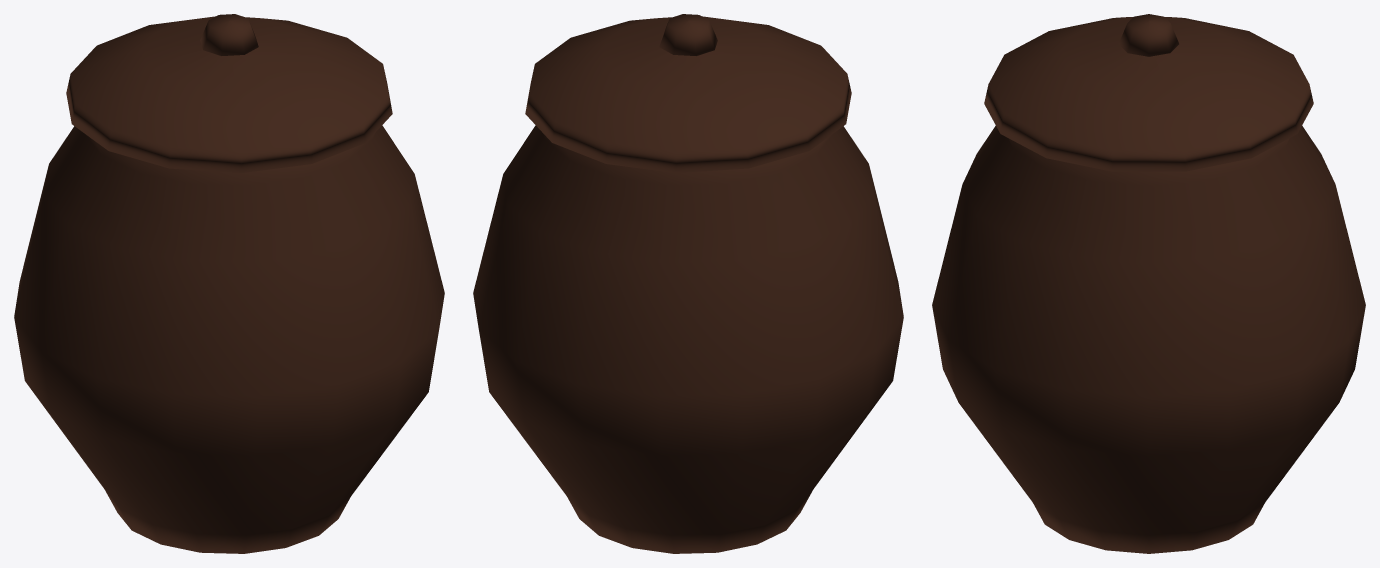
File: onggi-large.glb
3 views of the same model, side by side, from view 1: azimuth 30°, elevation 25°; view 2: azimuth 150°, elevation 25°; view 3: azimuth 270°, elevation 25° (orthographic).
Parts seen in each view (by area): view 1: onggi-jar-large_0; view 2: onggi-jar-large_0; view 3: onggi-jar-large_0.
Boxes of the visible parts, x1,y1,x2,y2 form: onggi-jar-large_0: (14,14,444,553); onggi-jar-large_0: (473,14,903,553); onggi-jar-large_0: (932,14,1365,553).
Bounding box in the file's own units: 0.8401 × 1.04 × 0.8401.
